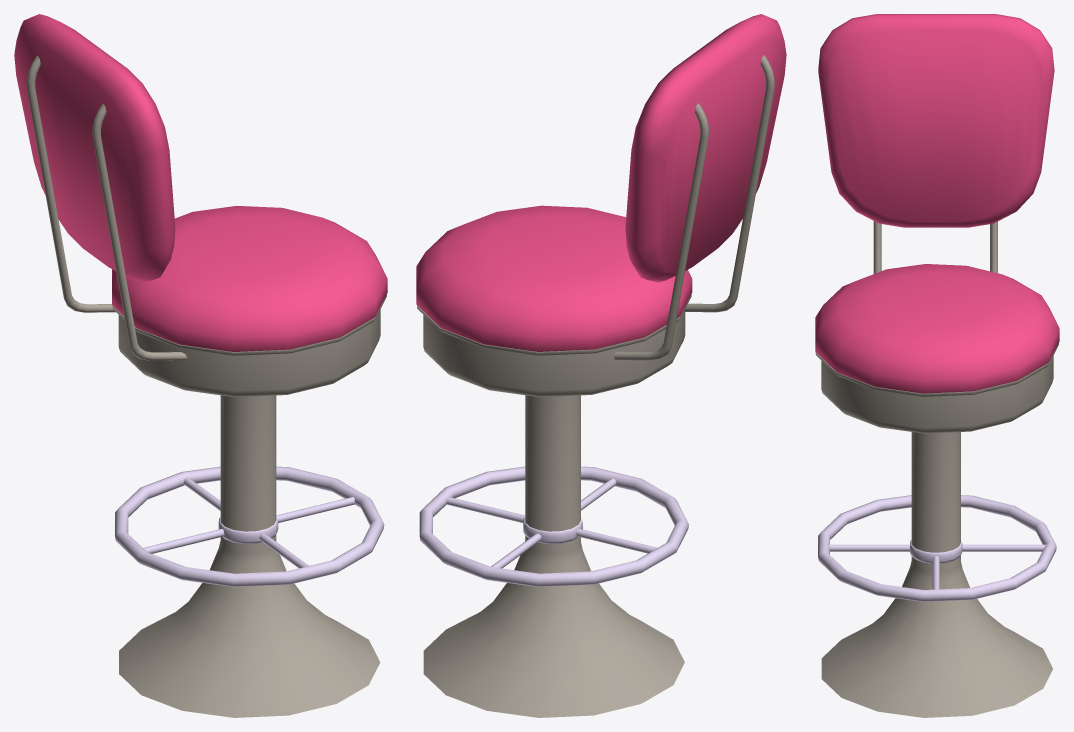
The model's file is bar_chair.fbx.
3 views of the same model, side by side, from view 1: azimuth 30°, elevation 25°; view 2: azimuth 150°, elevation 25°; view 3: azimuth 270°, elevation 25° (orthographic). The views are drawn at different scales.
Visible parts, largest first — view 1: Chair_Foot; view 2: Chair_Foot; view 3: Chair_Foot.
Boxes of the visible parts, x1,y1,x2,y2 form: Chair_Foot: (14, 14, 387, 717); Chair_Foot: (416, 14, 786, 717); Chair_Foot: (815, 14, 1059, 717).
Size of the model in its own units: 7.69 by 15.65 by 5.95.
